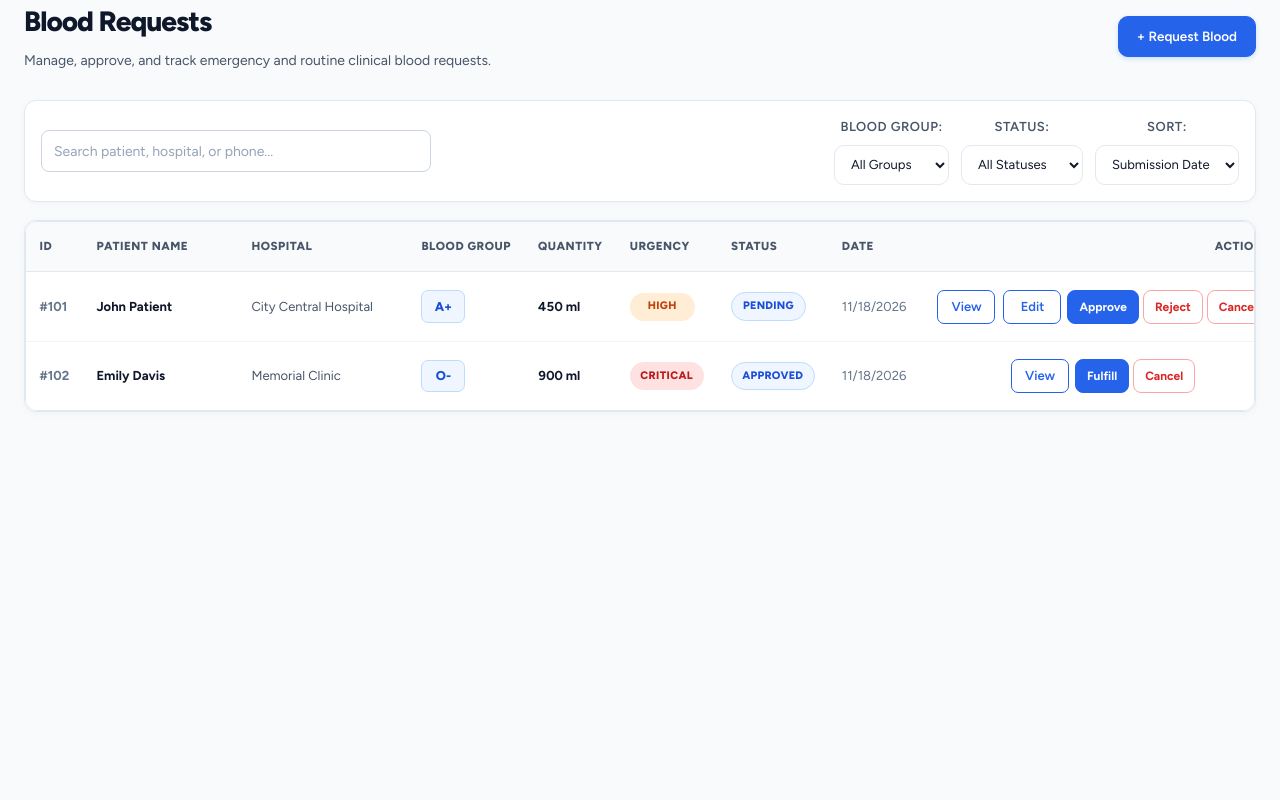
BloodRequests Page Component › opens details modal when view icon is clicked
Click the button with test id "btn-view-101" at (966, 307), box [938,290,996,324]
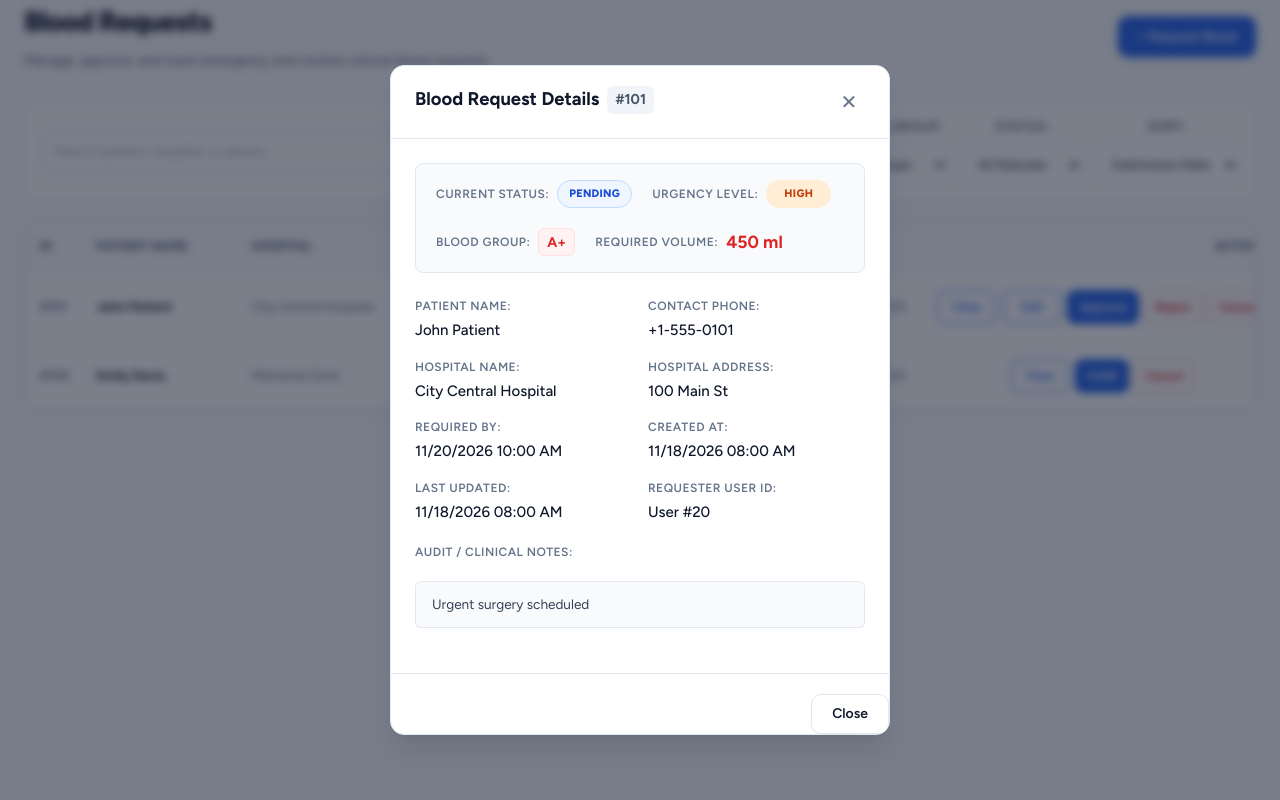
expect the dialog with test id "request-detail-modal" is shown: met, box [390,65,890,735]
expect the text with test id "detail-patient-name" reads "John Patient": met, box [415,321,500,339]
expect the text with test id "detail-hospital-name" reads "City Central Hospital": met, box [415,382,556,400]
